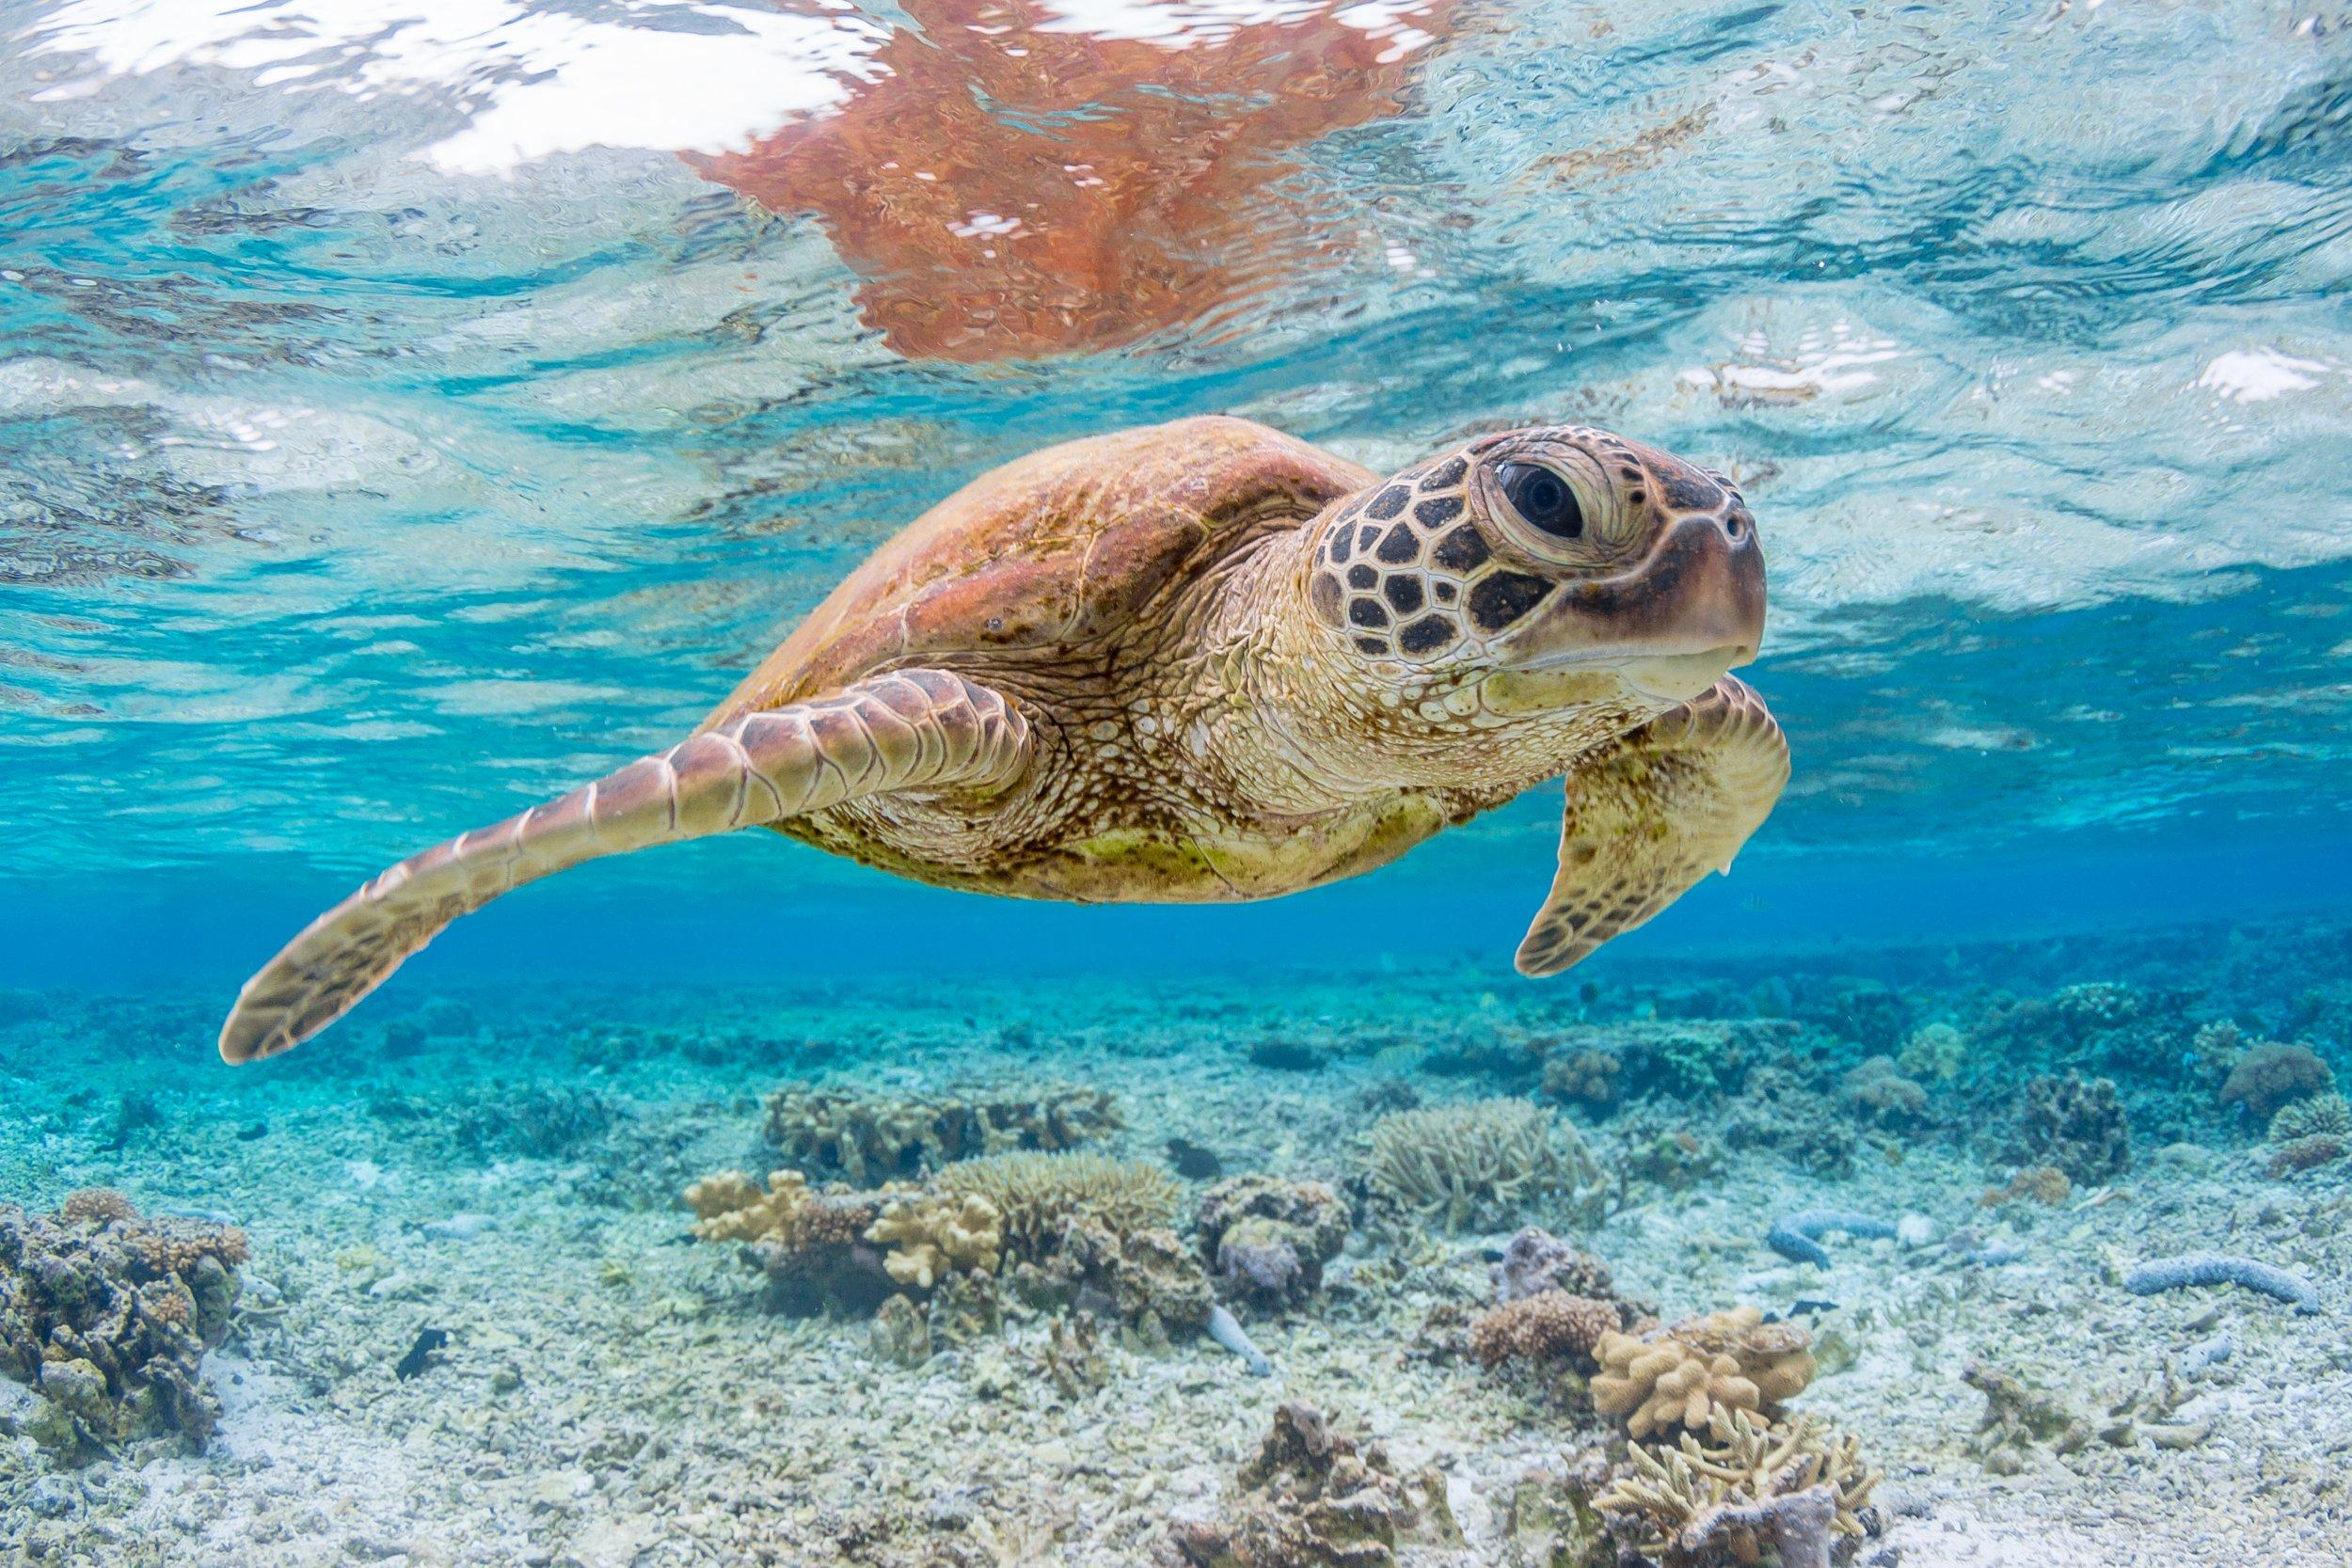turtle: (1300, 408, 1780, 786)
